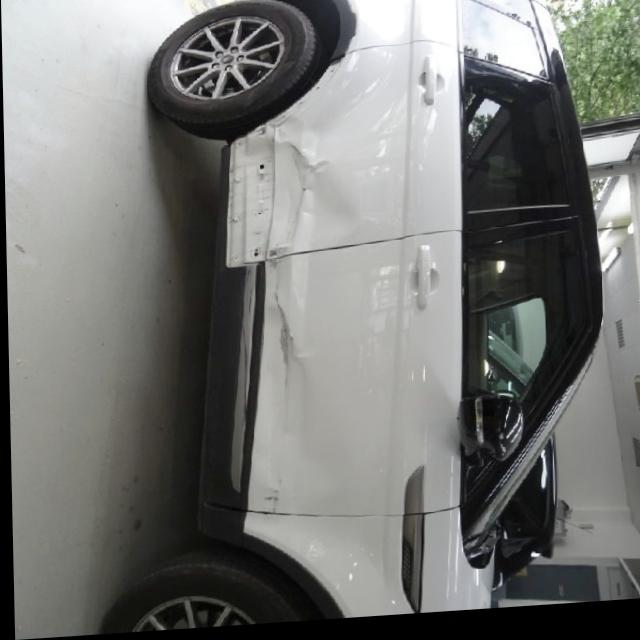porte-avant: (192, 224, 585, 527)
